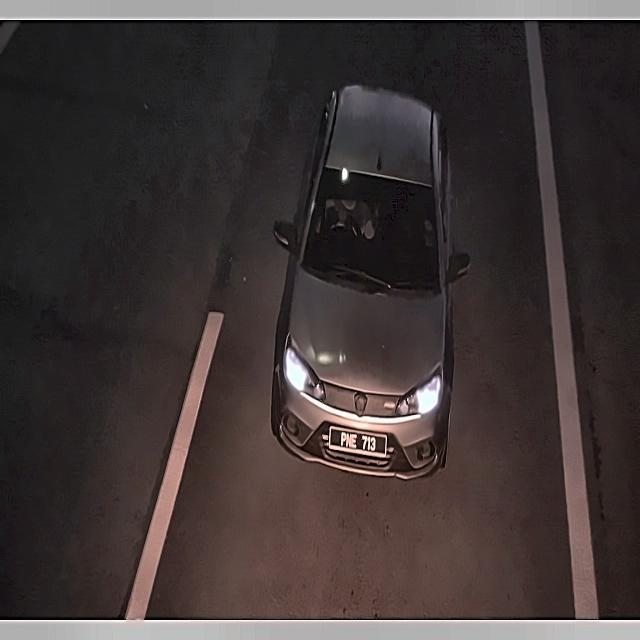car: (327, 424, 391, 464)
